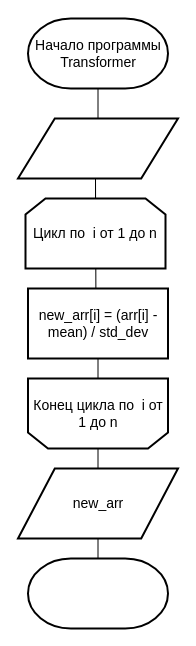
This 196x646 diagram has some shape labels left out. Here are the shapes that lost their labels. From the top down, the centre of each, then its label:
pixel 97 148: n, arr, mean, std_dev, new_arr
pixel 97 593: Конец программы Transformer
